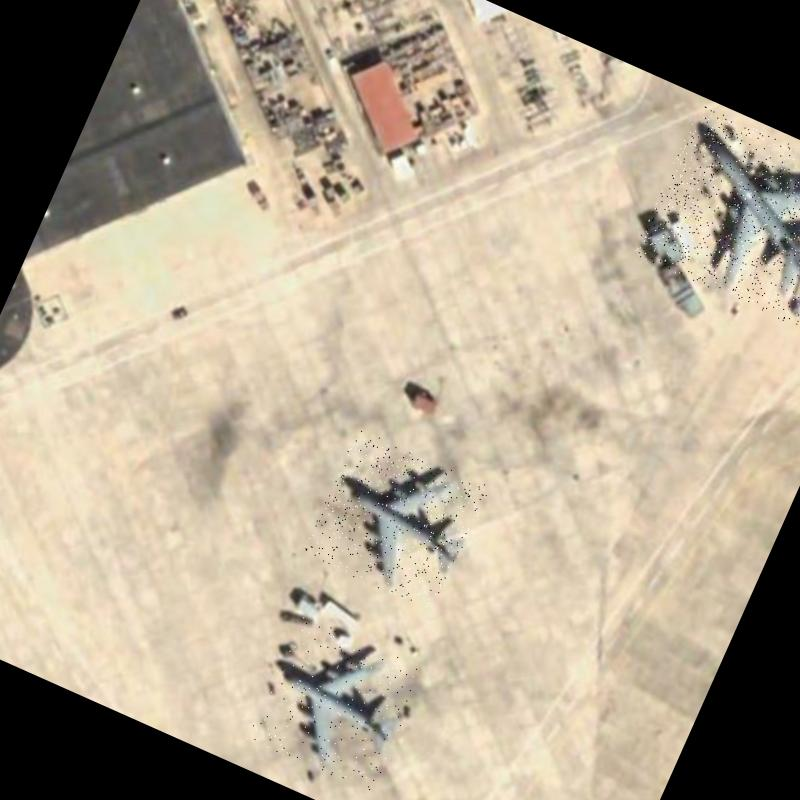A14: (302, 428, 490, 614), (247, 615, 427, 795)
A18: (632, 104, 800, 333)
